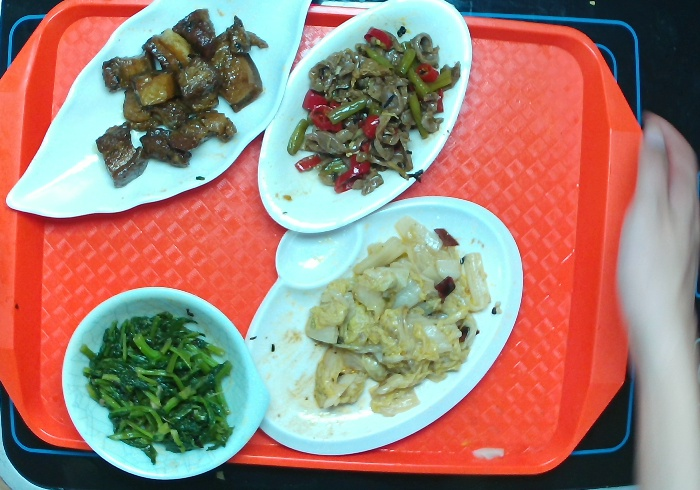RJxy-Bai_Se_Tuo_Yuan: (257, 1, 474, 234)
RJxy-Shu_Ye_Pan: (5, 1, 315, 219)
RJxy-Xiao_Jiao_Yuan_Wan: (62, 285, 267, 482)
RJxy-Zhan_Liao_Pan: (247, 195, 523, 453)
